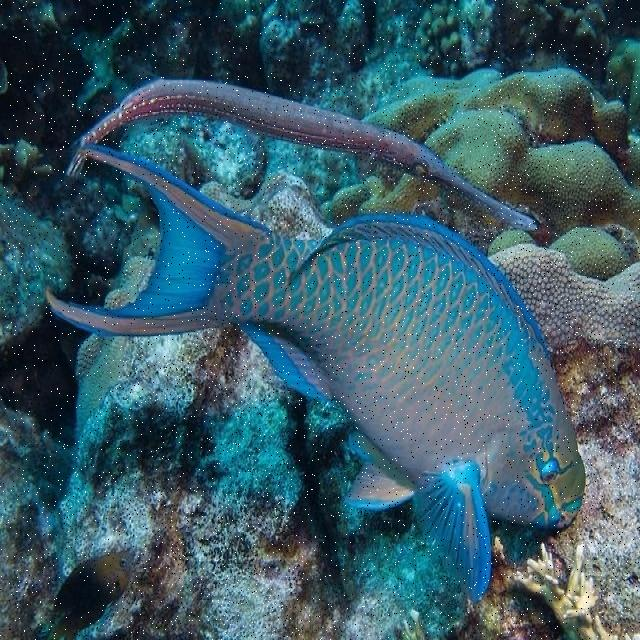fish: (45, 149, 585, 602), (65, 68, 538, 229), (50, 550, 132, 639)
reefs: (365, 66, 639, 277), (494, 244, 639, 344)
